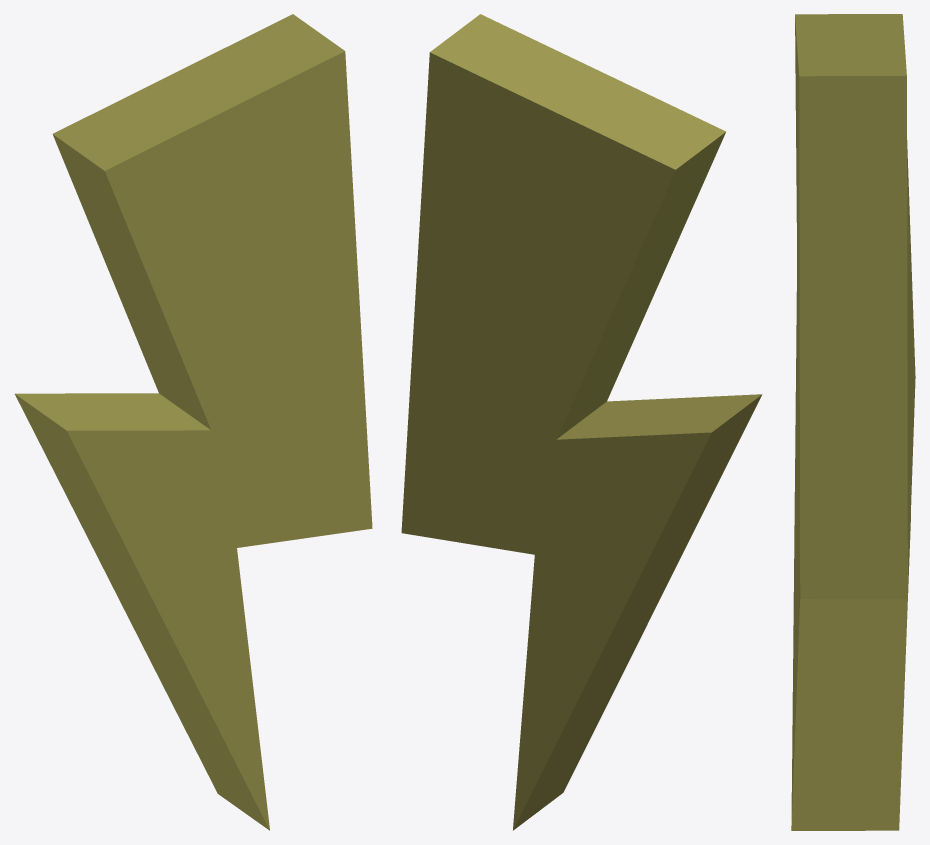
Rendered from thunderbolt.fbx.
The picture shows the model from 3 angles, left to right: view 1: azimuth 30°, elevation 25°; view 2: azimuth 150°, elevation 25°; view 3: azimuth 270°, elevation 25°; orthographic projection. The views are drawn at different scales.
Visible parts, largest first — view 1: polySurface1; view 2: polySurface1; view 3: polySurface1.
Part boxes in pixels (x1,y1,x2,y2): polySurface1: [15, 14, 372, 830]; polySurface1: [401, 14, 762, 830]; polySurface1: [791, 14, 915, 830].
Bounding box in the file's own units: 4.5 × 10.59 × 1.5.
